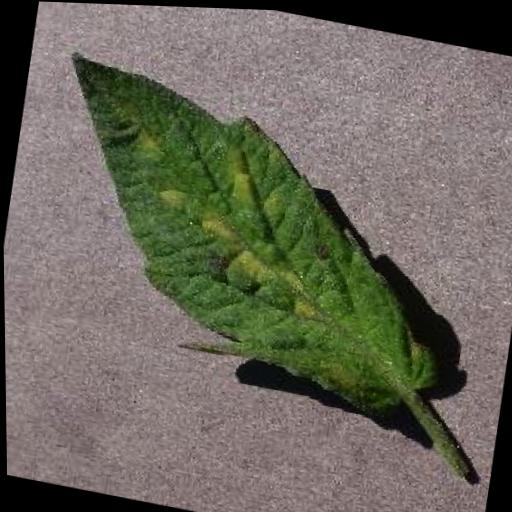Leaf Mold: (22, 50, 475, 417)
